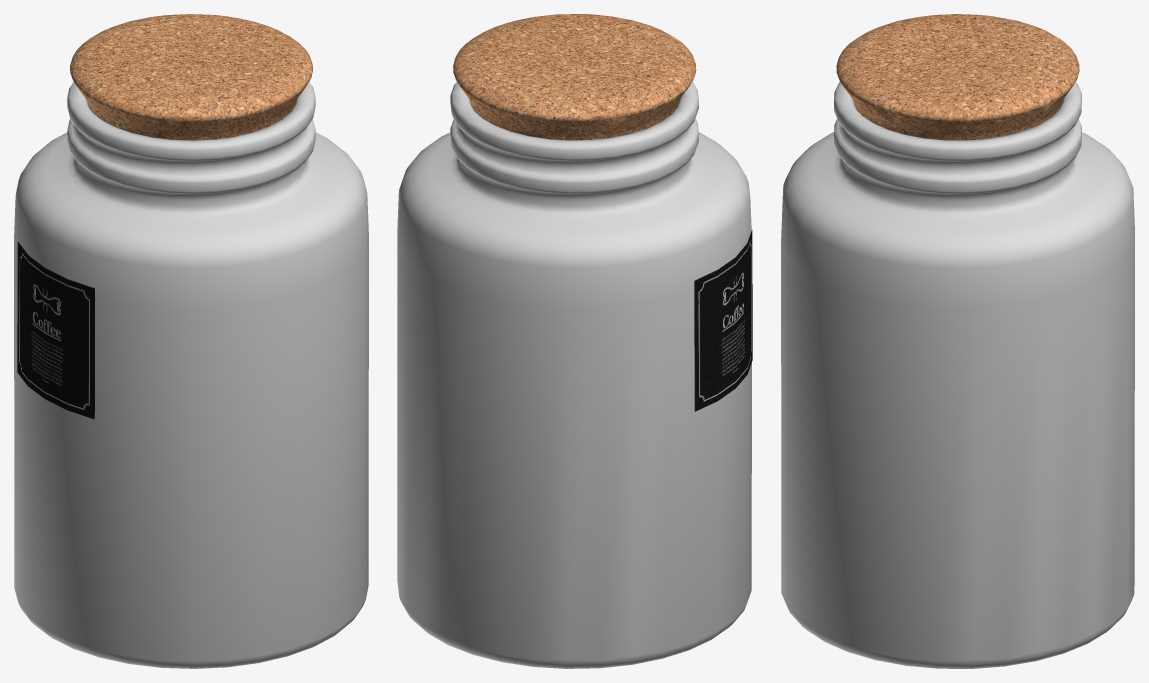
File: coffee_jar.glb
3 renders of one model, left to right at view 1: azimuth 30°, elevation 25°; view 2: azimuth 150°, elevation 25°; view 3: azimuth 270°, elevation 25°, orthographic.
Visible parts, largest first — view 1: CoffeeJar; view 2: CoffeeJar; view 3: CoffeeJar.
Part boxes in pixels (x1,y1,x2,y2): CoffeeJar: (14, 14, 368, 668); CoffeeJar: (397, 14, 752, 668); CoffeeJar: (781, 14, 1134, 668).
Bounding box in the file's own units: 0.1274 × 0.2144 × 0.1272.
Materials: 4 (3 with a texture image).
